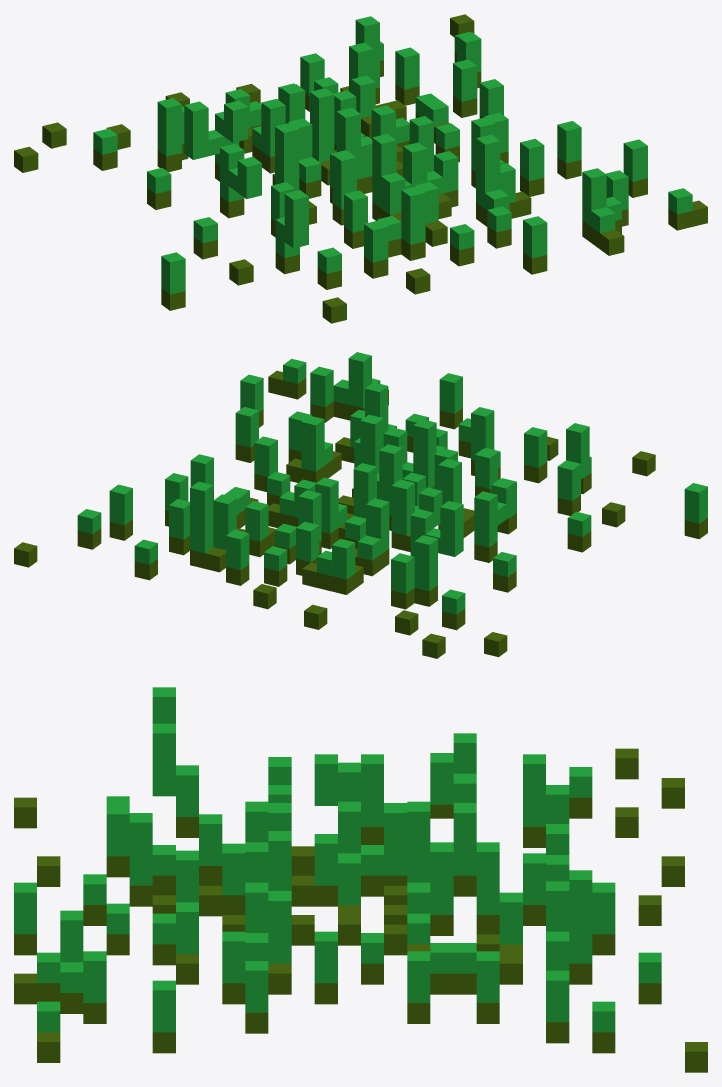
File: grass_spikes_1.obj
The picture shows the model from 3 angles, top to bottom: view 1: azimuth 30°, elevation 25°; view 2: azimuth 150°, elevation 25°; view 3: azimuth 270°, elevation 25°; orthographic projection. The views are drawn at different scales.
Bounding box in the file's own units: 3.3 × 0.5 × 3.
1 material, 1 textured.
